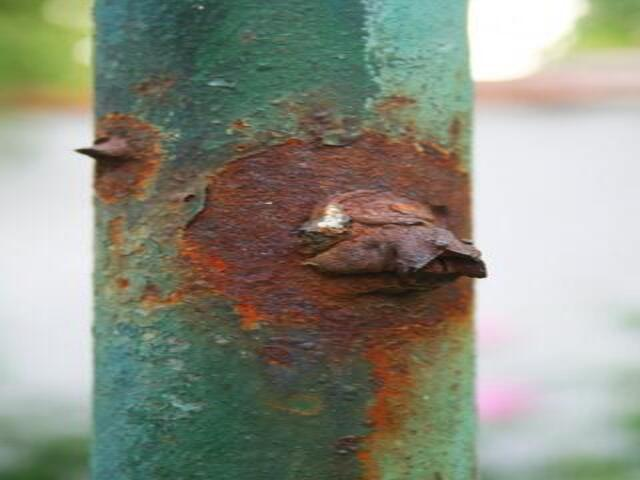Severe: (197, 104, 486, 354), (85, 111, 171, 208)
